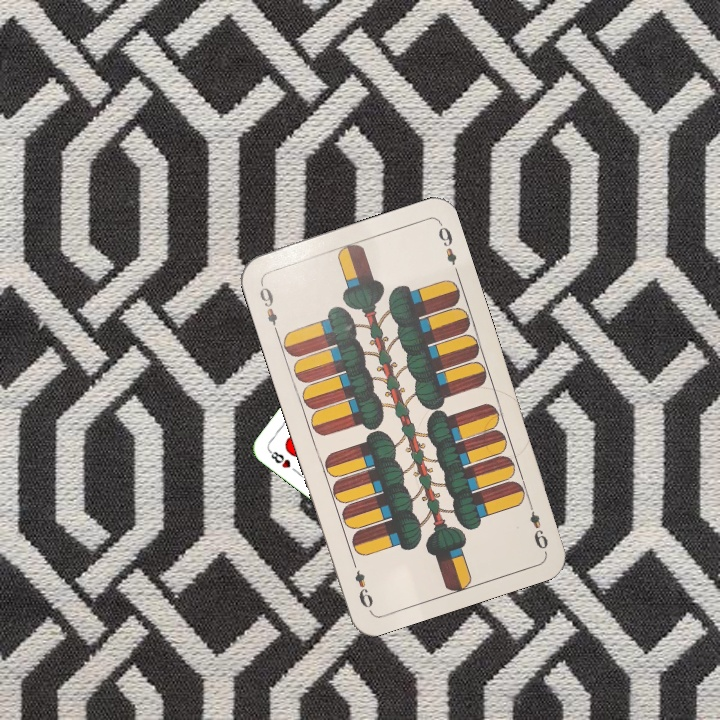E9: (524, 496, 551, 552), (255, 278, 281, 336)
H8: (265, 447, 293, 471)
